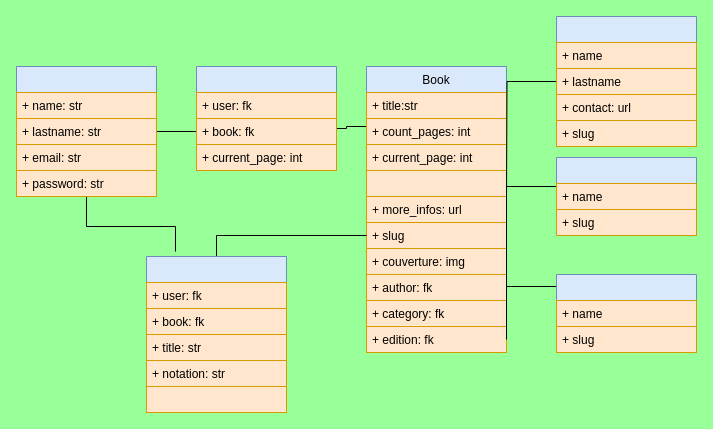
Image size: 713x429. Some labels were removed from this diagram. The box of each missing label's shape, as (x1, y1, x2, y2) in pixels:
+ commentary: str: (146, 386, 286, 412)
+ ISBN: str: (366, 170, 506, 196)
Author: (556, 16, 696, 146)
Category: (556, 156, 696, 236)
Commentary: (146, 256, 286, 386)
Edition: (556, 274, 696, 352)
Library: (196, 66, 336, 170)
User: (16, 66, 156, 196)
